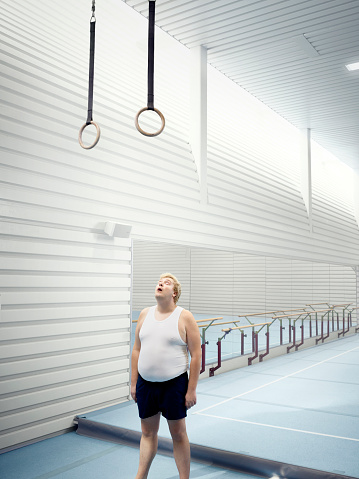em pe: (121, 267, 201, 478)
